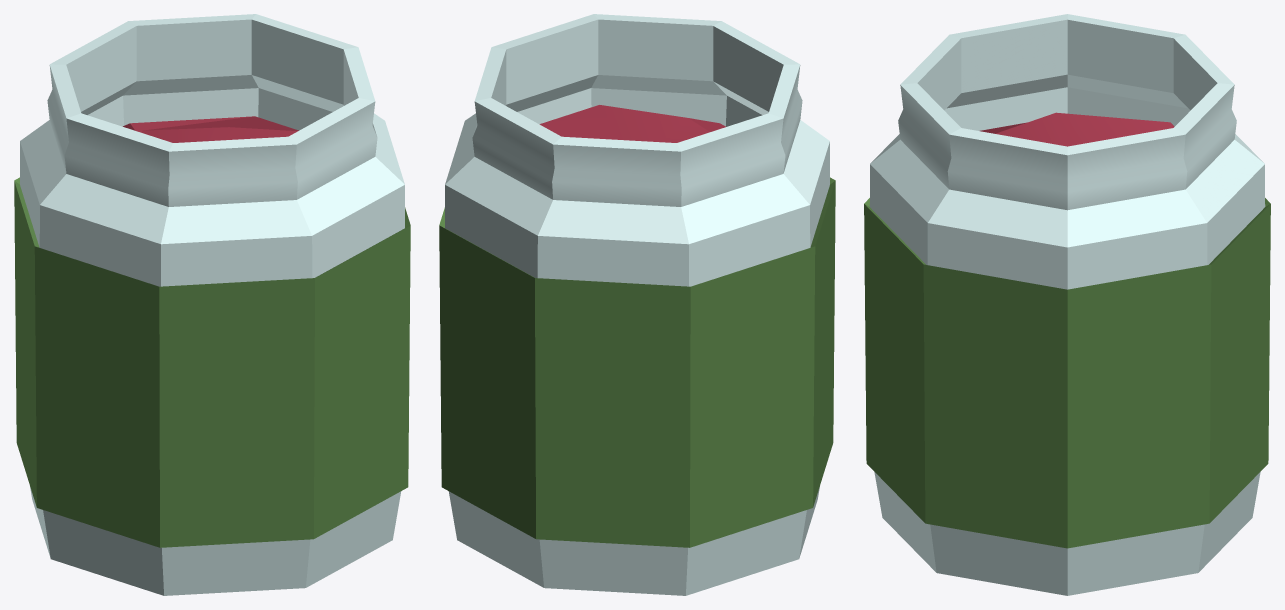
The model's file is filled_jar.fbx.
The picture shows the model from 3 angles, left to right: view 1: azimuth 30°, elevation 25°; view 2: azimuth 150°, elevation 25°; view 3: azimuth 270°, elevation 25°; orthographic projection.
Visible parts, largest first — view 1: Filled_Jar; view 2: Filled_Jar; view 3: Filled_Jar.
Part boxes in pixels (left/top/right/bottom): Filled_Jar: left=14, top=14, right=410, bottom=595; Filled_Jar: left=439, top=14, right=835, bottom=595; Filled_Jar: left=864, top=14, right=1270, bottom=595.
Size of the model in its own units: 2 by 2.36 by 2.
